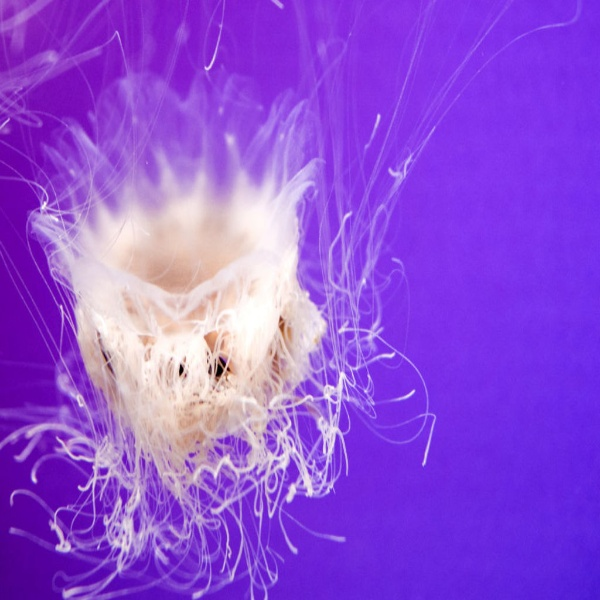Jellyfish: (0, 0, 581, 598)
